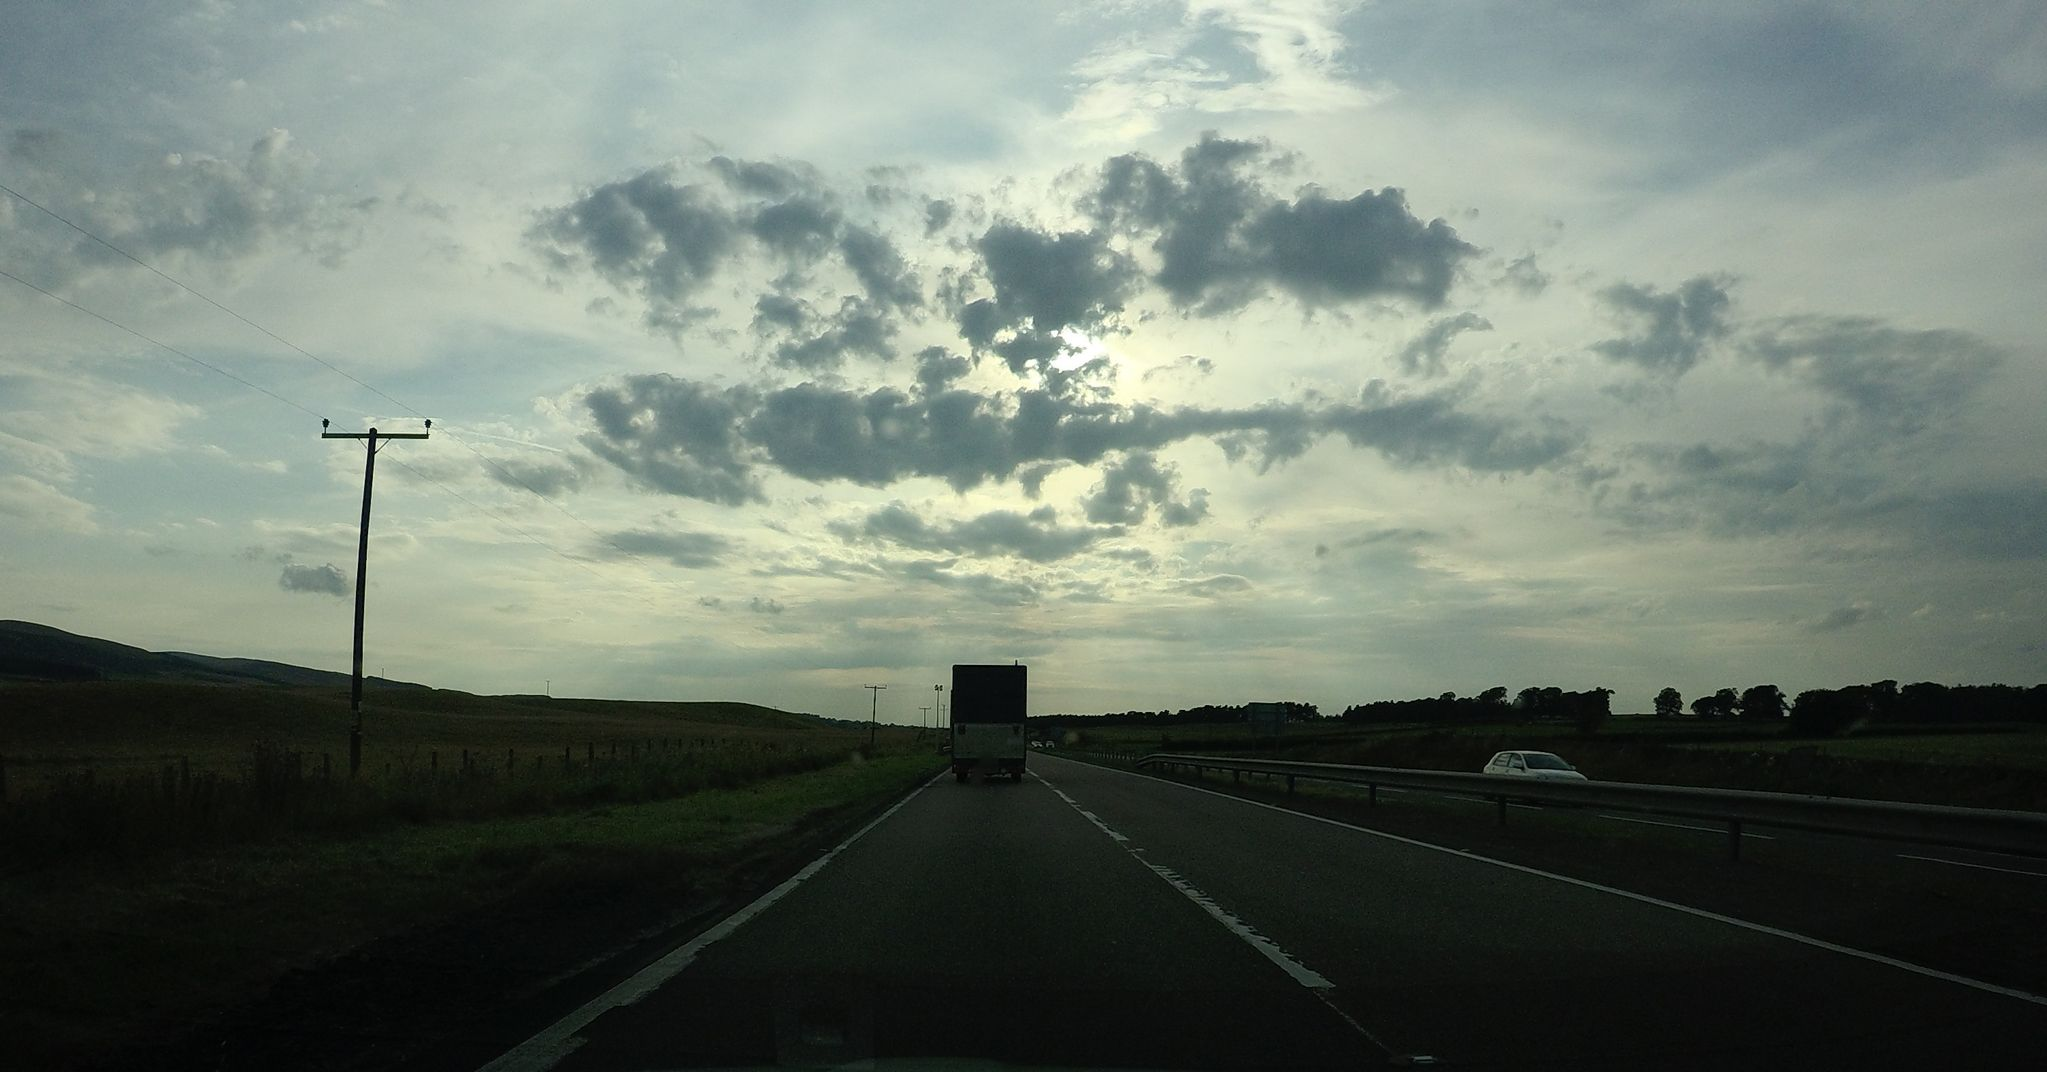car: (1482, 749, 1588, 782)
truck: (950, 659, 1030, 778)
